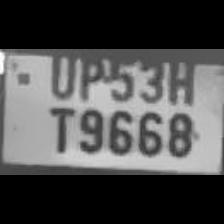3: (135, 54, 164, 102)
5: (105, 52, 135, 100)
6: (103, 106, 133, 156), (134, 108, 164, 158)
8: (163, 108, 195, 158)
9: (74, 102, 104, 155)
H: (163, 51, 197, 105)
P: (76, 50, 106, 102)
T: (41, 102, 75, 154)
U: (45, 50, 77, 98)
